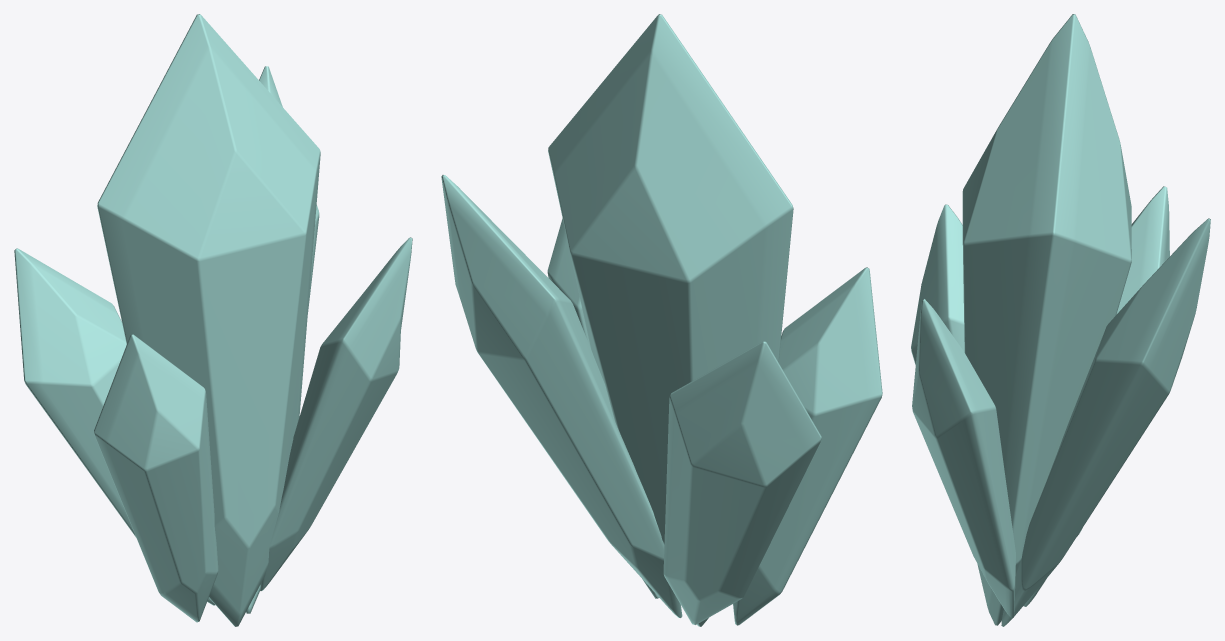
Rendered from SM_Crystal.004.fbx.
The picture shows the model from 3 angles, left to right: view 1: azimuth 30°, elevation 25°; view 2: azimuth 150°, elevation 25°; view 3: azimuth 270°, elevation 25°; orthographic projection. The views are drawn at different scales.
Visible parts, largest first — view 1: Crystal.003; view 2: Crystal.003; view 3: Crystal.003.
Part boxes in pixels (box(x1,y1,x2,y2)): Crystal.003: box(14, 14, 412, 626); Crystal.003: box(441, 14, 882, 626); Crystal.003: box(911, 14, 1210, 626).
Bounding box in the file's own units: 56.34 × 100 × 44.7.
